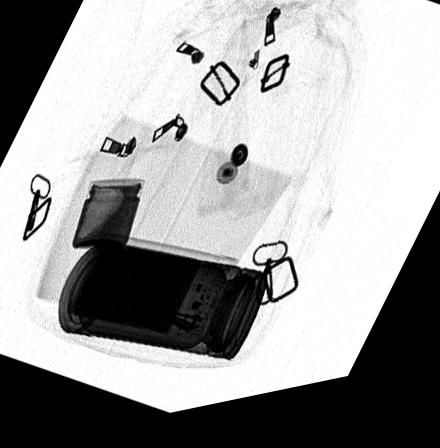Powerbank: (62, 233, 239, 357)
